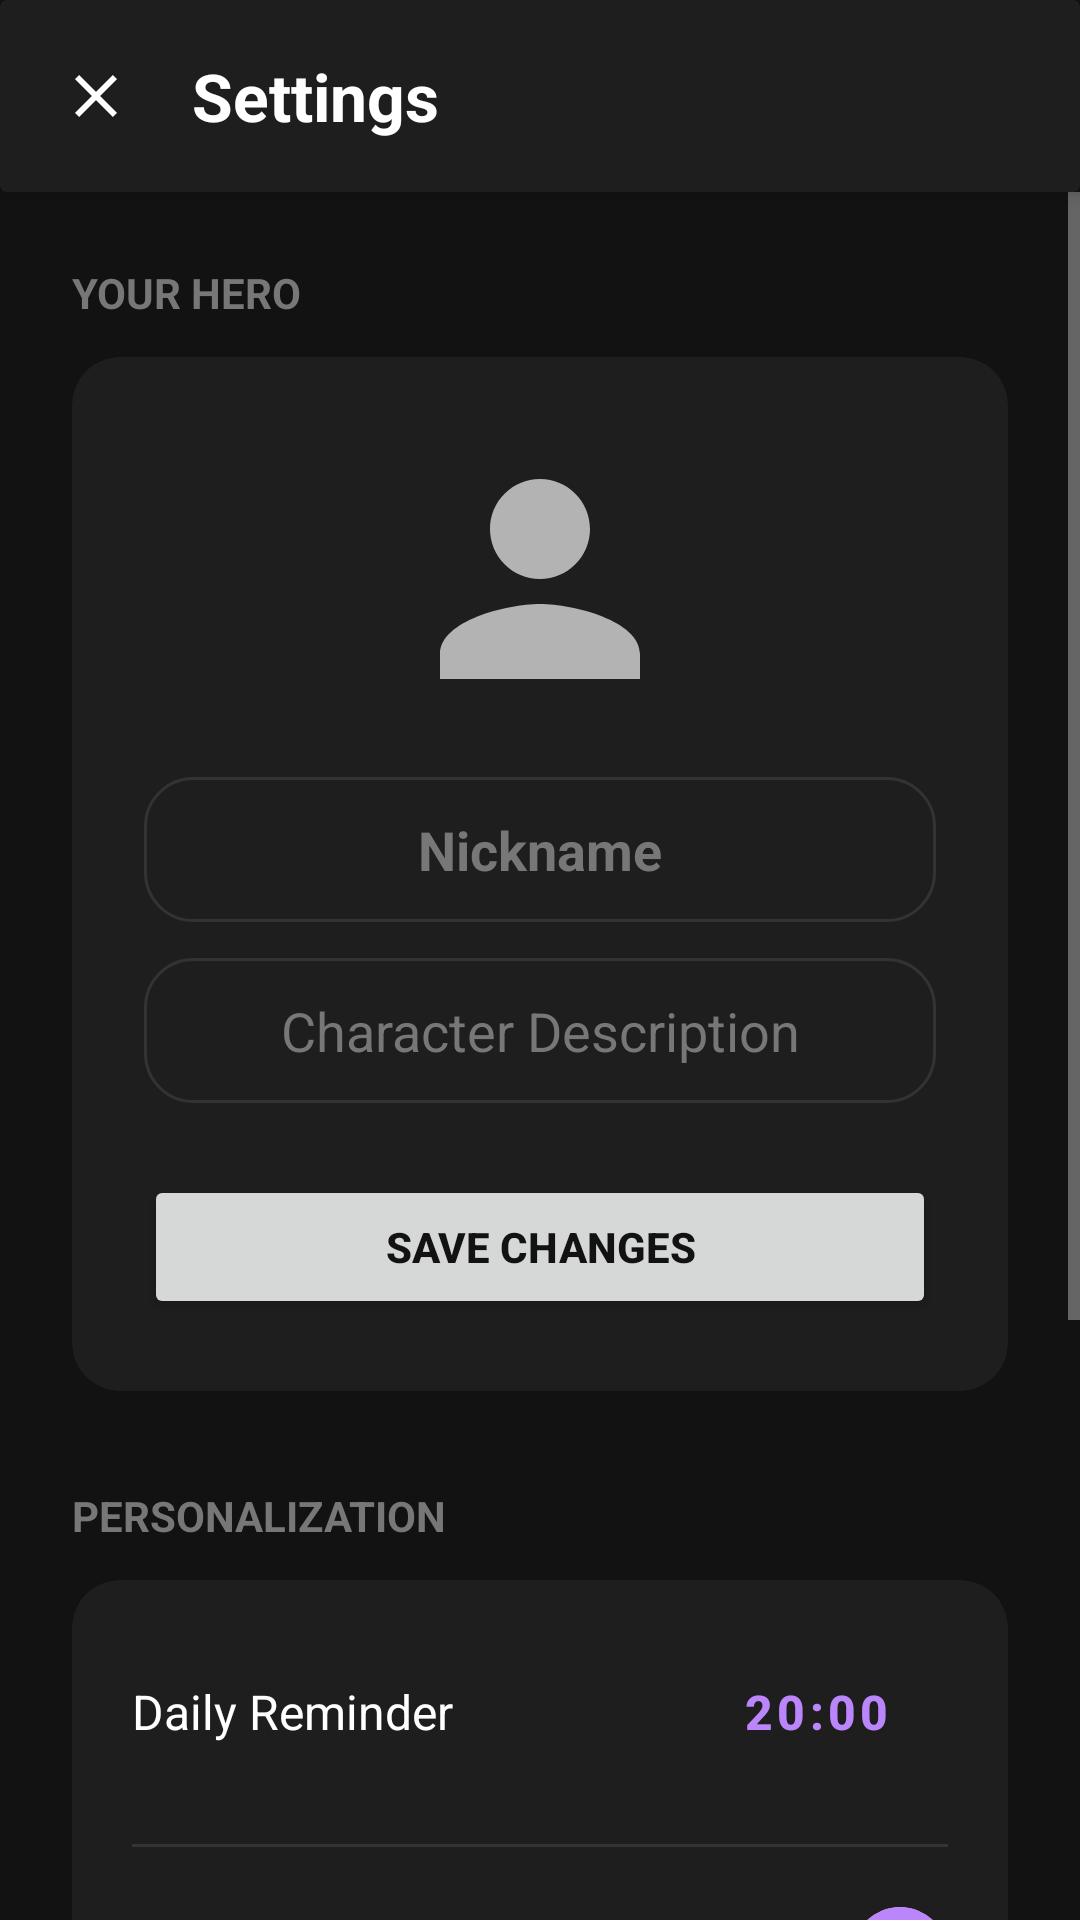

Locate icon controls on the screen. Image size 1080 x 1920, boxes as [x1=x1, y1=y1, x2=x2, y2=y2].
custom close: [x1=75, y1=75, x2=117, y2=117]
custom profile: [x1=440, y1=479, x2=640, y2=679]
